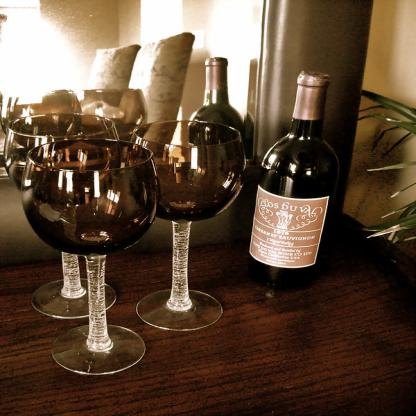drinking: (246, 70, 340, 293)
